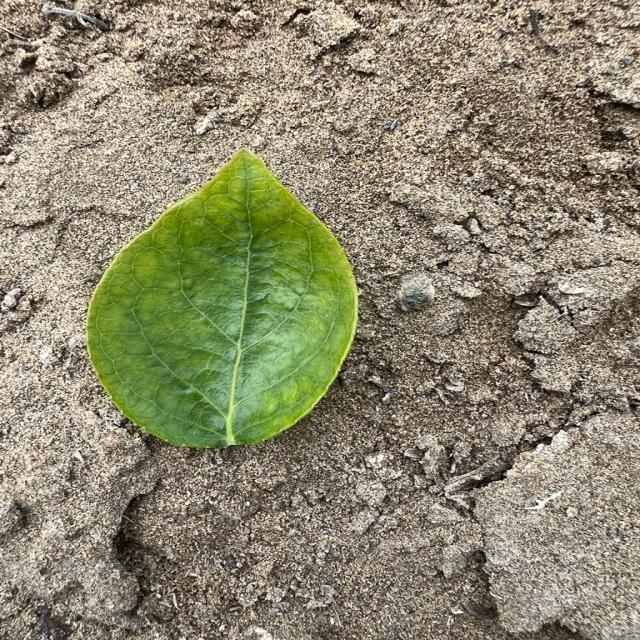Hojas sanas sin oidiosis: (82, 145, 362, 449)
